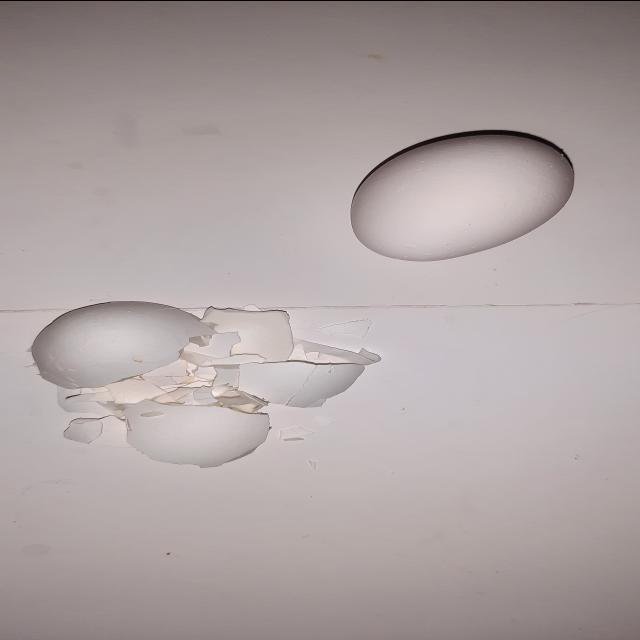egg shell: (341, 131, 583, 263), (28, 299, 203, 376), (115, 394, 266, 464), (192, 348, 383, 398), (187, 302, 308, 361)
